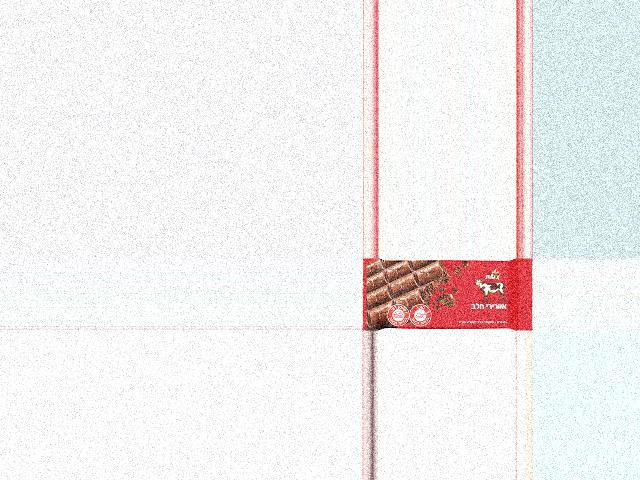chocolate: (364, 259, 533, 330)
